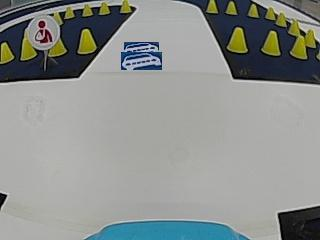cone: (227, 27, 248, 53), (76, 29, 96, 55), (262, 31, 280, 56), (20, 36, 36, 60), (291, 36, 307, 59), (49, 36, 66, 56), (0, 40, 14, 62), (288, 18, 300, 35), (225, 1, 238, 14), (247, 3, 259, 17), (119, 0, 131, 13), (98, 2, 110, 15), (81, 3, 93, 16), (206, 0, 218, 13), (275, 12, 286, 26), (64, 6, 75, 19), (52, 12, 63, 24), (265, 6, 275, 19)
patient: (27, 16, 59, 48)
